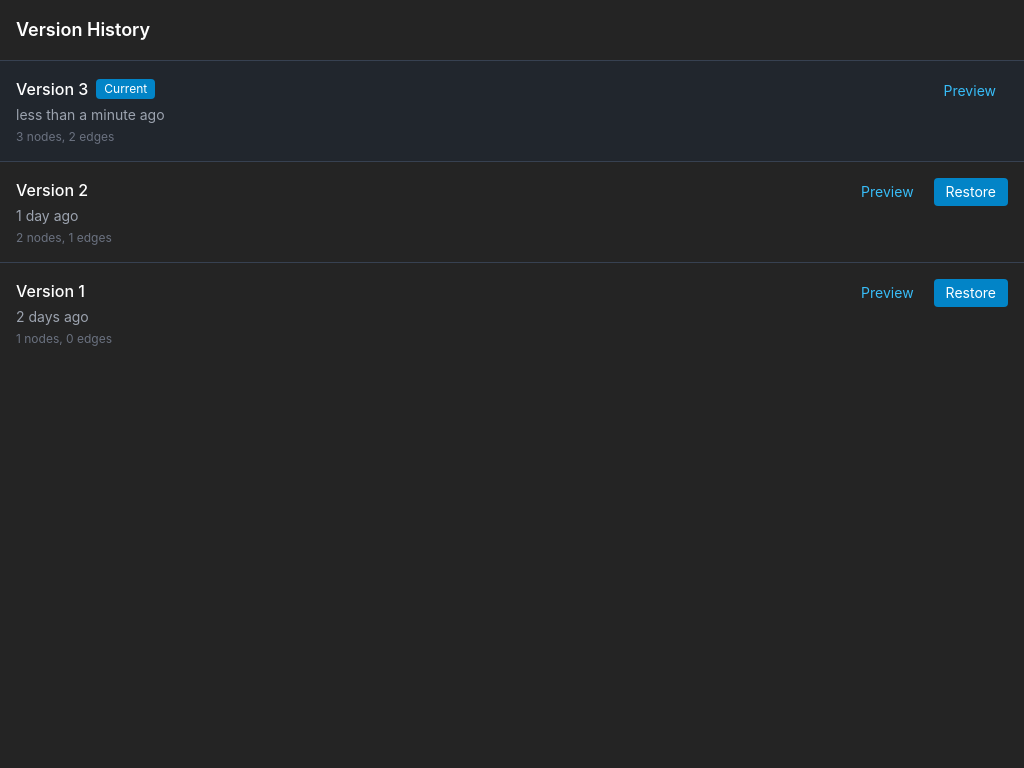
Test: VersionHistory › preview modal › should not show Restore button in preview for current version
Expected: the text "Version 3" is shown, left=16, top=77, right=88, bottom=101
Click the button "Preview" in the row of "Current" at (970, 91), box left=932, top=77, right=1008, bottom=105
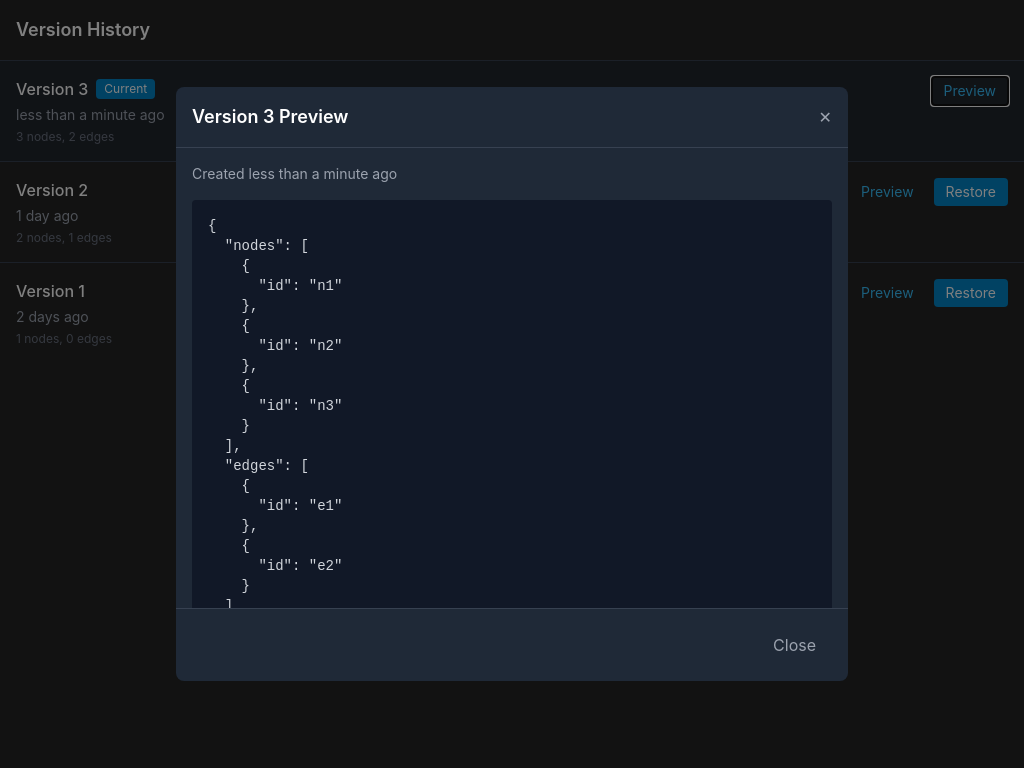
Expected: the heading "Version 3 Preview" is shown, left=192, top=103, right=348, bottom=131
